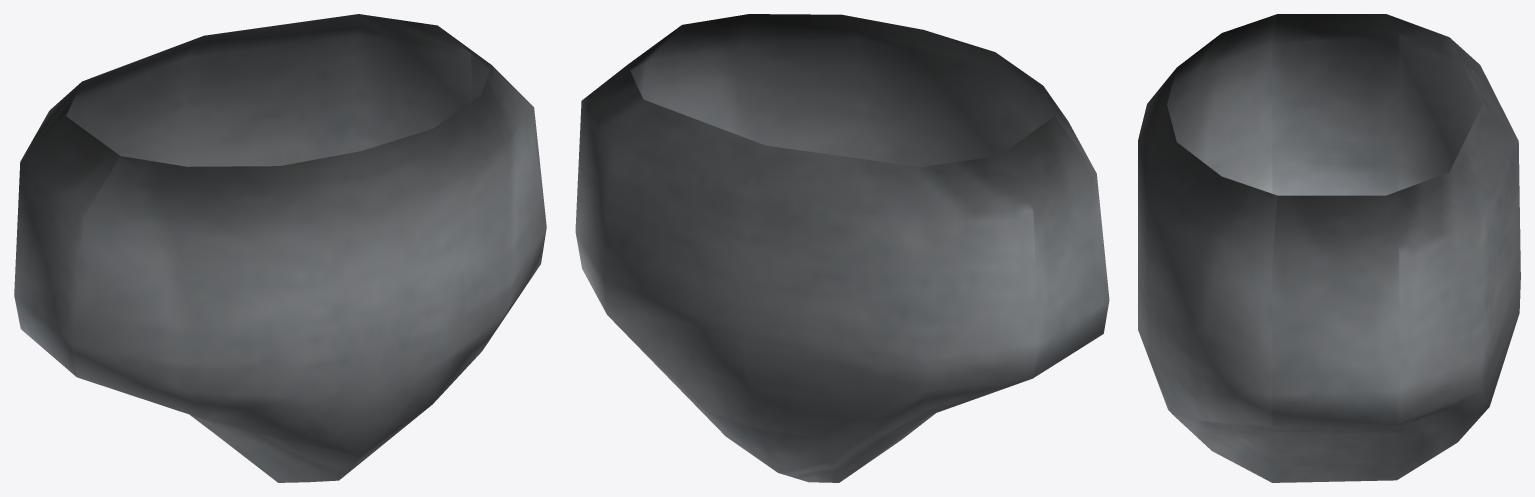
Rendered from grave_marine_pelvis.glb.
The picture shows the model from 3 angles, left to right: view 1: azimuth 30°, elevation 25°; view 2: azimuth 150°, elevation 25°; view 3: azimuth 270°, elevation 25°; orthographic projection.
Parts seen in each view (by area): view 1: scythe_marine_pelvis; view 2: scythe_marine_pelvis; view 3: scythe_marine_pelvis.
Part boxes in pixels (x1,y1,x2,y2): scythe_marine_pelvis: (14,14,546,482); scythe_marine_pelvis: (575,14,1109,482); scythe_marine_pelvis: (1138,14,1520,482).
Size of the model in its own units: 1.7 by 1.26 by 1.18.
1 material, 1 textured.
